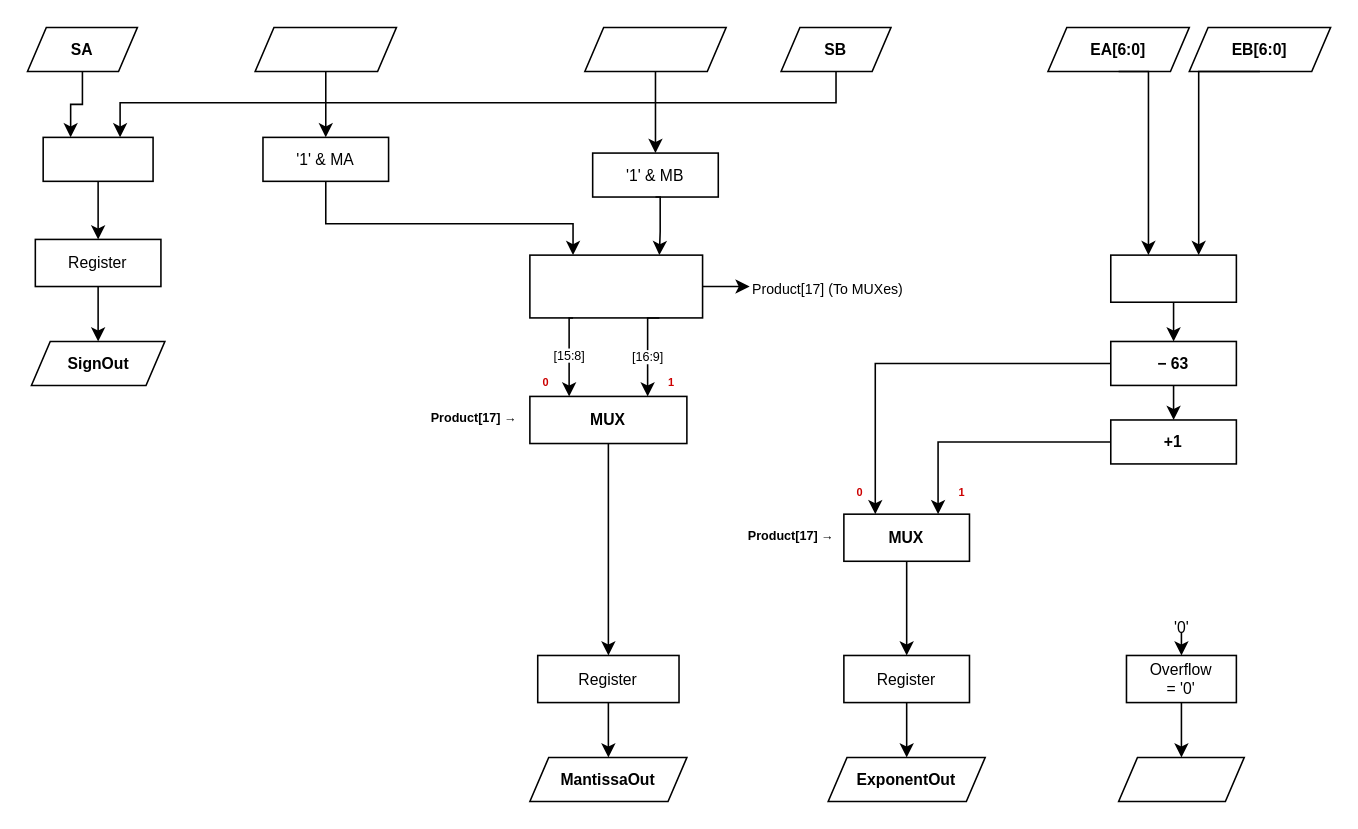
Some shapes in this 1358 by 829 pixel diagram are drawn without their labels. The centre of each missing label's shape, as x and y in pixels:
"9×9 Multiplier" goes at [615,286].
"EA + EB" goes at [1172,278].
"MA[7:0]" goes at [325,48].
"MB[7:0]" goes at [654,48].
"Overflow" goes at [1180,778].
"XOR" goes at [97,158].
